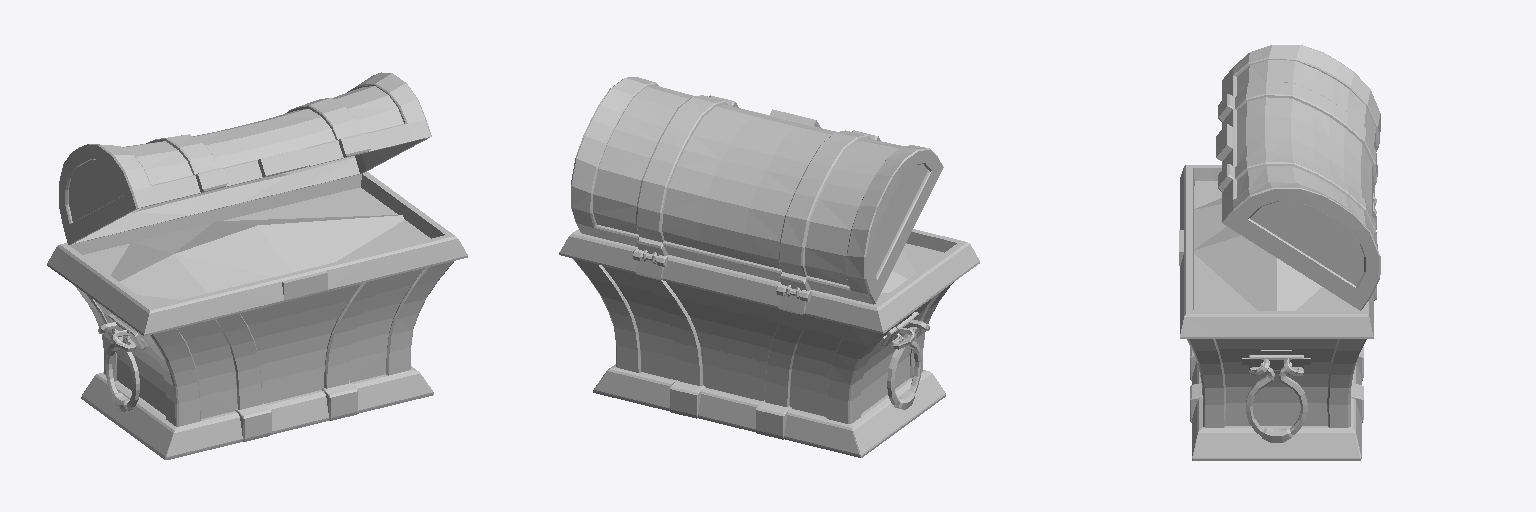
Rendered from treasure_chest_object.obj.
3 views of the same model, side by side, from view 1: azimuth 30°, elevation 25°; view 2: azimuth 150°, elevation 25°; view 3: azimuth 270°, elevation 25° (orthographic).
Visible parts, largest first — view 1: Chest_Gold1; view 2: Chest_Gold1; view 3: Chest_Gold1.
Part boxes in pixels (x1,y1,x2,y2): Chest_Gold1: (47,72,467,459); Chest_Gold1: (559,77,979,457); Chest_Gold1: (1179,45,1380,460).
Size of the model in its own units: 2 by 1.65 by 1.08.